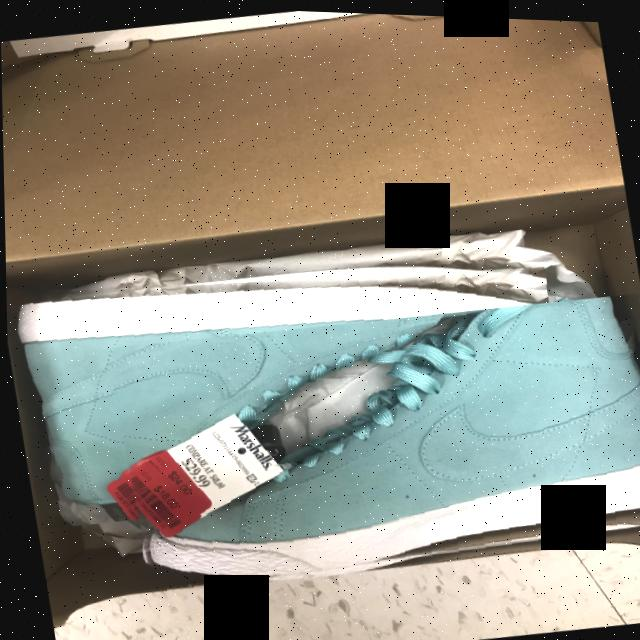shoe: (4, 219, 576, 544), (102, 272, 640, 609)
